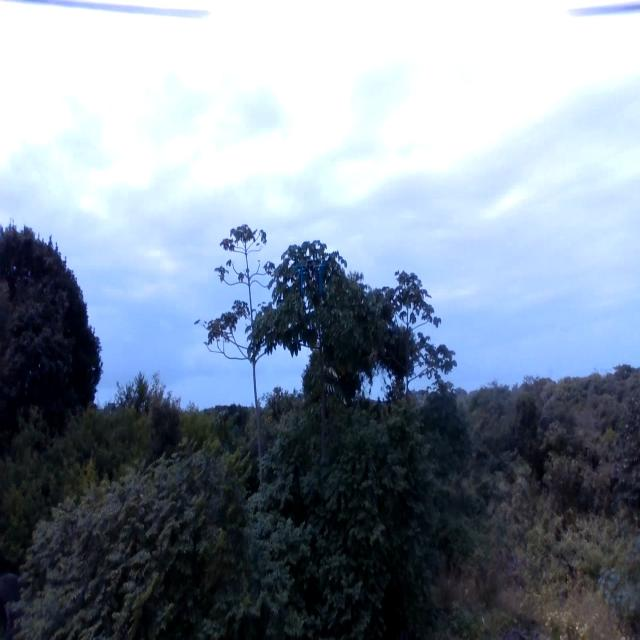-uav-: (286, 254, 348, 310)
